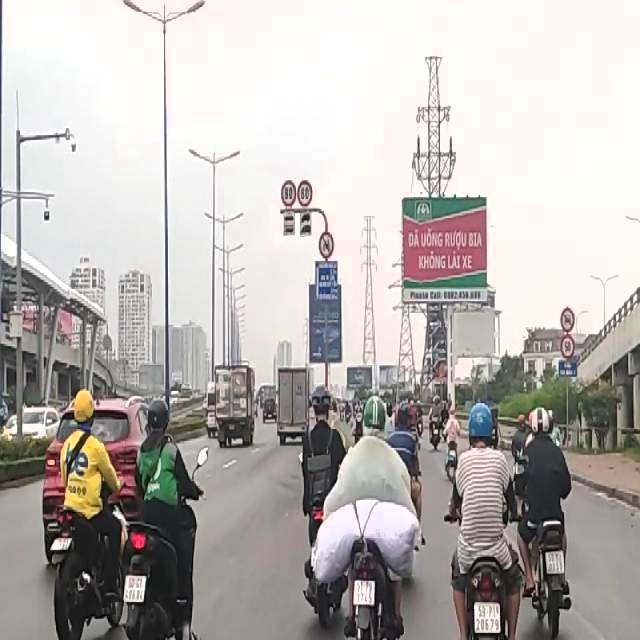P.103a: (560, 307, 574, 331)
P.104: (318, 230, 336, 260)
P.127*50: (561, 332, 575, 358)
P.127*60: (298, 179, 312, 205)
P.127*80: (281, 179, 297, 207)
